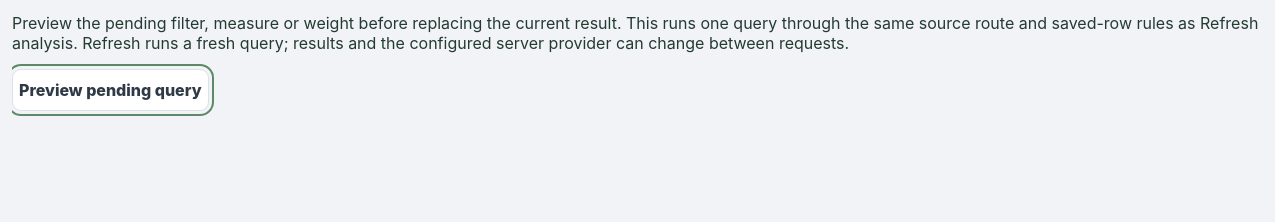
Test case: keeps its trigger reachable and refuses activation while loading or already querying
This screenshot has width=1275, height=222.
Later steps or results of the test are not shown.
Click the button "Preview pending query" at (110, 90), box 12,69 -> 209,111
Click the button "Preview pending query" at (110, 90), box 12,69 -> 209,111
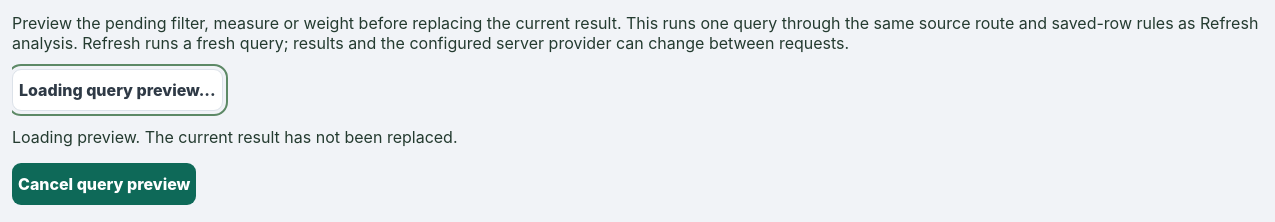
expect the button "Loading query preview..." is disabled: met
Click the button "Loading query preview..." at (117, 90), box 12,69 -> 223,111
expect the button "Cancel query preview" is shown: met, box 12,163 -> 196,205
